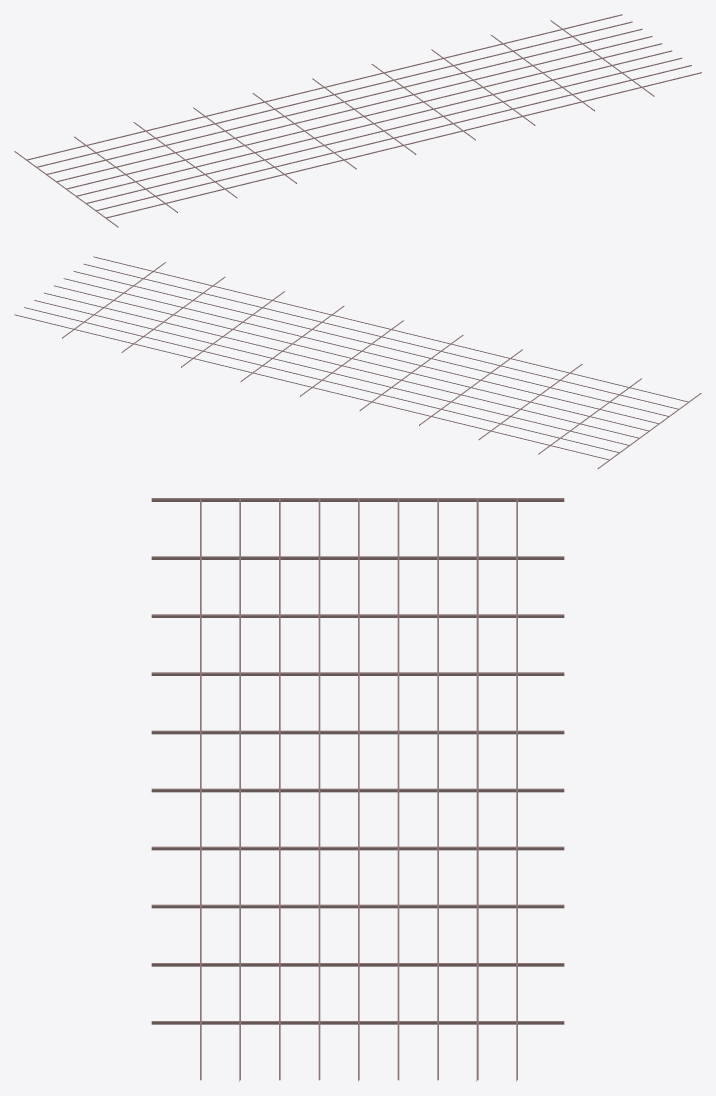
File: Elements_Joist.glb
3 views of the same model, one above another, from view 1: azimuth 30°, elevation 25°; view 2: azimuth 150°, elevation 25°; view 3: azimuth 270°, elevation 25° (orthographic). The views are drawn at different scales.
Visible parts, largest first — view 1: no part large enough to name; view 2: no part large enough to name; view 3: 2ab2703f-3142-4d70-bd2e-77dfbeffbe5c_mesh (×10).
Part boxes in pixels (<box>): 2ab2703f-3142-4d70-bd2e-77dfbeffbe5c_mesh (×10): <box>151,498,564,1024</box>.
Bounding box in the file's own units: 100 × 0.2032 × 30.
